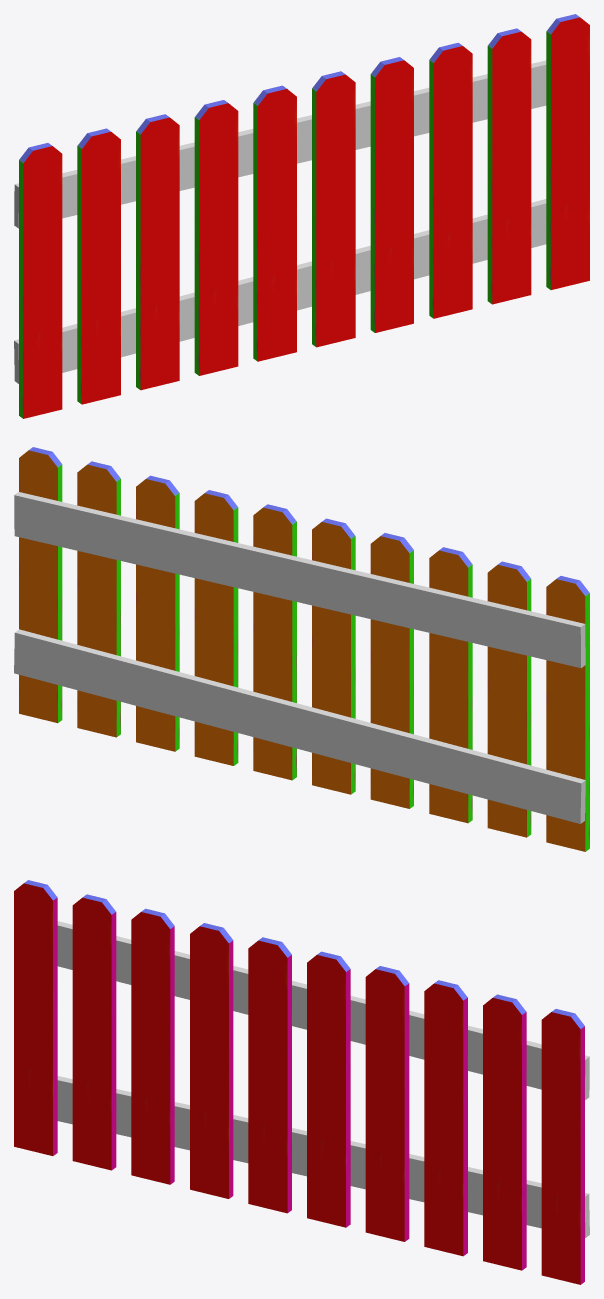
Rendered from Fence.dae.
The picture shows the model from 3 angles, top to bottom: view 1: azimuth 30°, elevation 25°; view 2: azimuth 150°, elevation 25°; view 3: azimuth 330°, elevation 25°; orthographic projection.
Parts seen in each view (by area): view 1: Post.008, Post.003, Post.007, Post.004, Post.002, Post.009, Post.005, Post.001, Post.006, Post, Post.011, Post.010; view 2: Post.011, Post.010, Post, Post.006, Post.001, Post.004, Post.007, Post.009, Post.002, Post.008, Post.005, Post.003; view 3: Post.001, Post.006, Post.007, Post.005, Post.002, Post.008, Post.004, Post, Post.003, Post.009, Post.010, Post.011.
Boxes of the visible parts, left/top/right/bottom form: Post.008: left=487, top=28, right=531, bottom=304; Post.003: left=194, top=100, right=238, bottom=375; Post.007: left=429, top=42, right=472, bottom=318; Post.004: left=253, top=85, right=296, bottom=361; Post.002: left=136, top=114, right=179, bottom=390; Post.009: left=546, top=14, right=589, bottom=289; Post.005: left=312, top=71, right=355, bottom=347; Post.001: left=77, top=128, right=120, bottom=404; Post.006: left=370, top=57, right=413, bottom=332; Post: left=19, top=143, right=62, bottom=418; Post.011: left=14, top=199, right=546, bottom=383; Post.010: left=14, top=60, right=546, bottom=228; Post.011: left=14, top=629, right=585, bottom=823; Post.010: left=14, top=492, right=585, bottom=667; Post: left=546, top=576, right=589, bottom=851; Post.006: left=194, top=490, right=238, bottom=765; Post.001: left=487, top=561, right=531, bottom=837; Post.004: left=312, top=518, right=355, bottom=794; Post.007: left=136, top=475, right=179, bottom=751; Post.009: left=19, top=447, right=62, bottom=723; Post.002: left=429, top=547, right=472, bottom=823; Post.008: left=77, top=461, right=120, bottom=737; Post.005: left=253, top=504, right=296, bottom=780; Post.003: left=370, top=533, right=413, bottom=808; Post.001: left=72, top=894, right=116, bottom=1170; Post.006: left=365, top=966, right=409, bottom=1241; Post.007: left=424, top=980, right=467, bottom=1256; Post.005: left=307, top=951, right=350, bottom=1227; Post.002: left=131, top=908, right=174, bottom=1184; Post.008: left=483, top=994, right=526, bottom=1270; Post.004: left=248, top=937, right=291, bottom=1213; Post: left=14, top=880, right=57, bottom=1155; Post.003: left=190, top=923, right=233, bottom=1198; Post.009: left=541, top=1009, right=584, bottom=1284; Post.010: left=57, top=921, right=589, bottom=1100; Post.011: left=57, top=1076, right=589, bottom=1237.
Bounding box in the file's own units: 2.9 × 0.08 × 1.3.
Materials: 3 (1 with a texture image).
